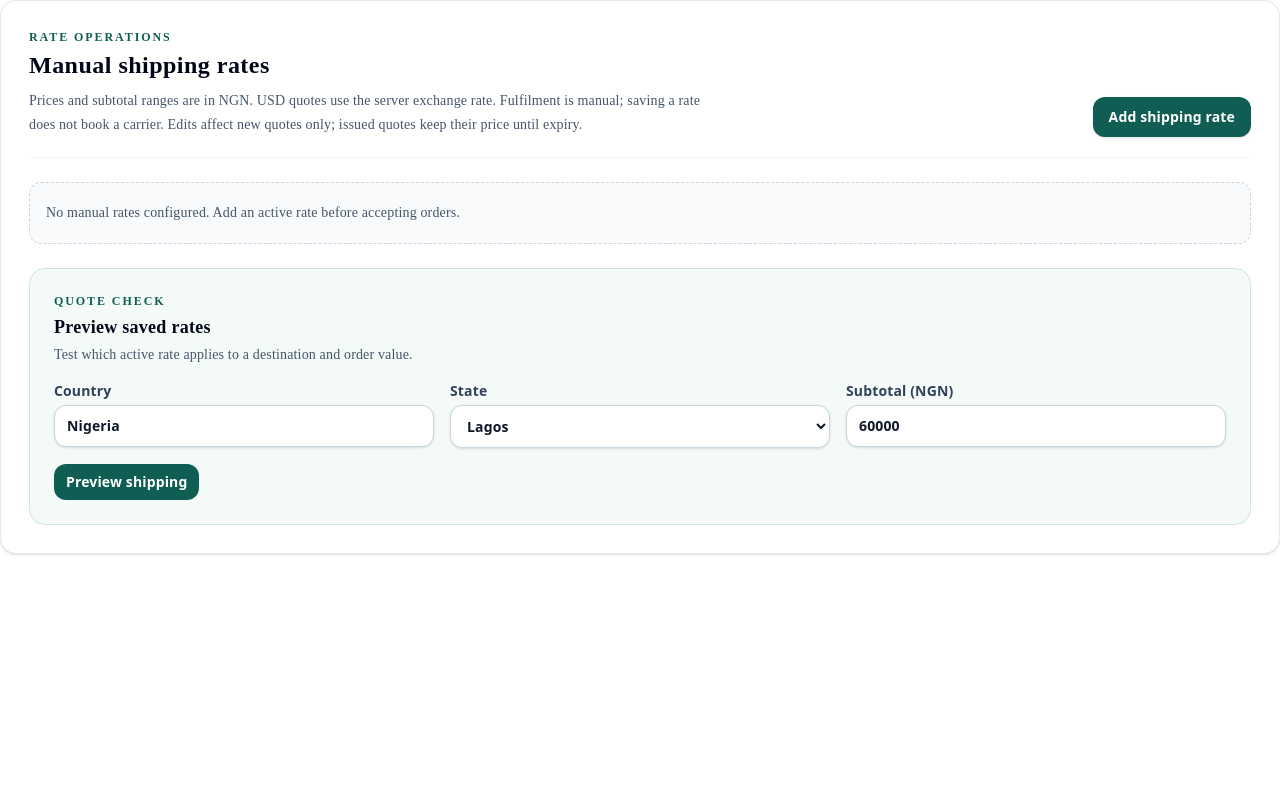
Scenario: ManualShippingSettings › reports save errors inside the open dialog
This screenshot has width=1280, height=800.
Click the button "Add shipping rate" at (1172, 117), box top-left (1093, 97), bottom-right (1251, 137)
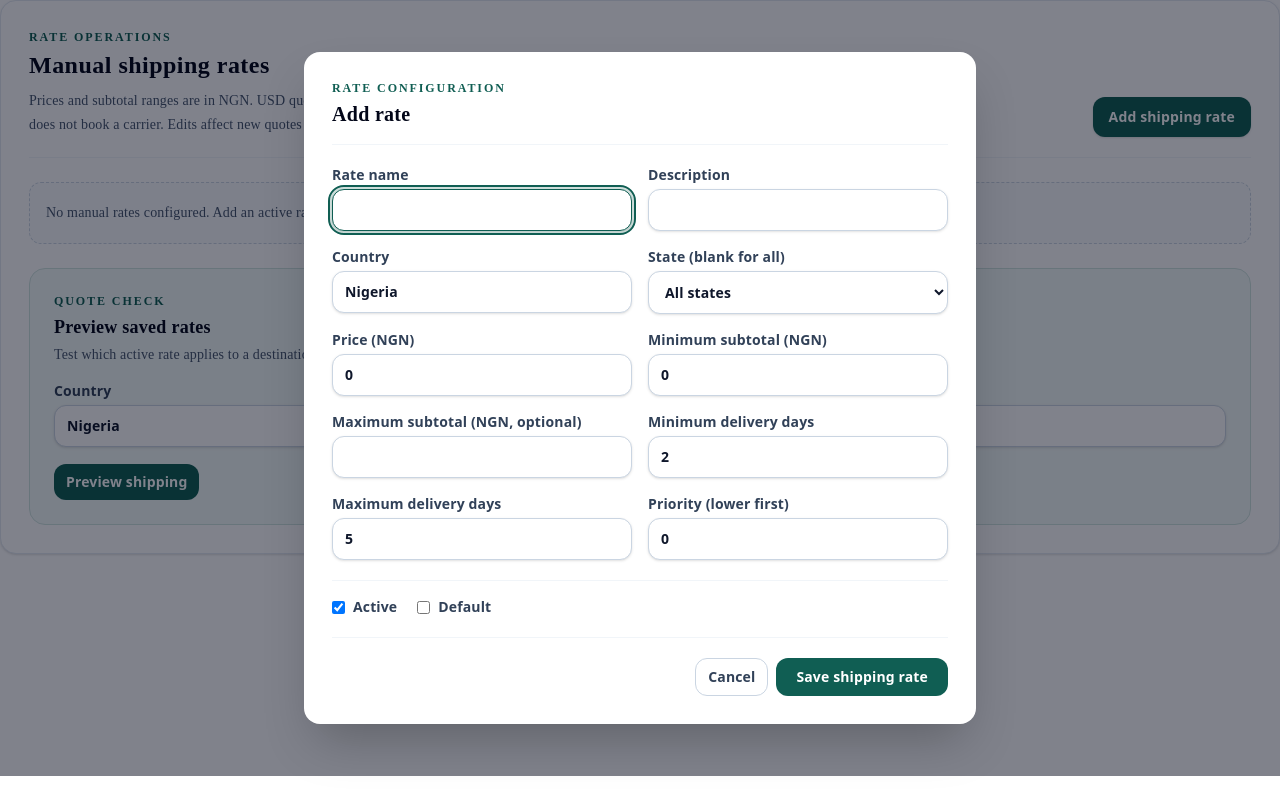
Type "Lagos delivery" into the field labelled "Rate name" at (482, 210), box top-left (332, 189), bottom-right (632, 231)
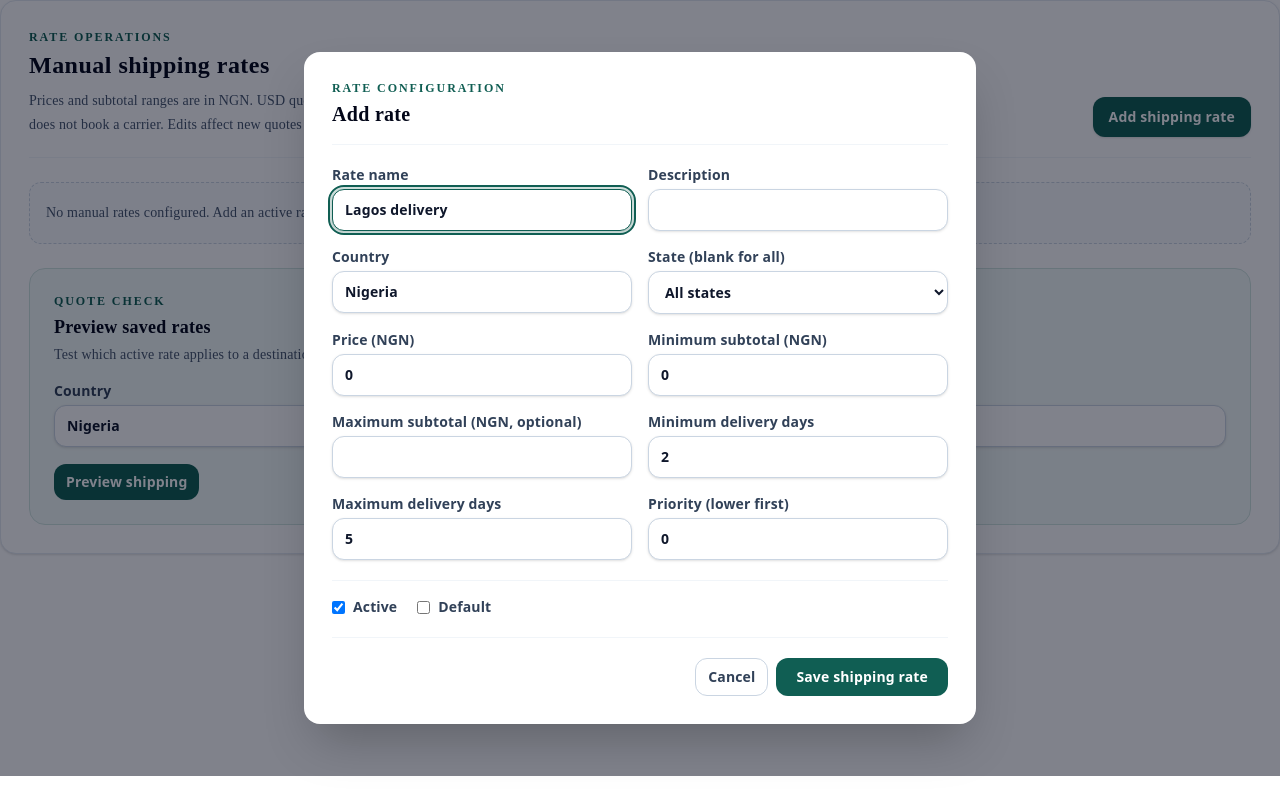
Click the button "Save shipping rate" at (862, 677), box top-left (776, 658), bottom-right (948, 696)
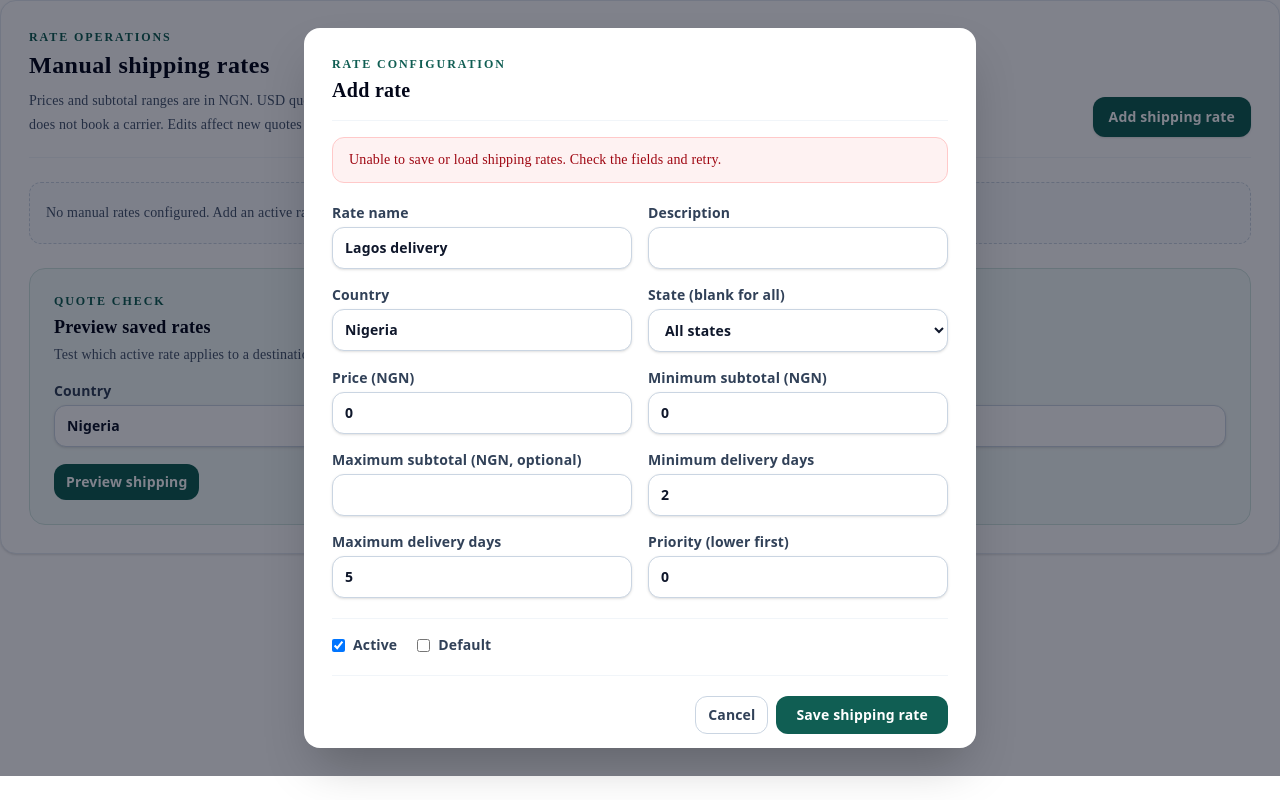
Now the message "Unable to save or load shipping rates. Check the fields and retry." is shown, box top-left (332, 137), bottom-right (948, 183)
